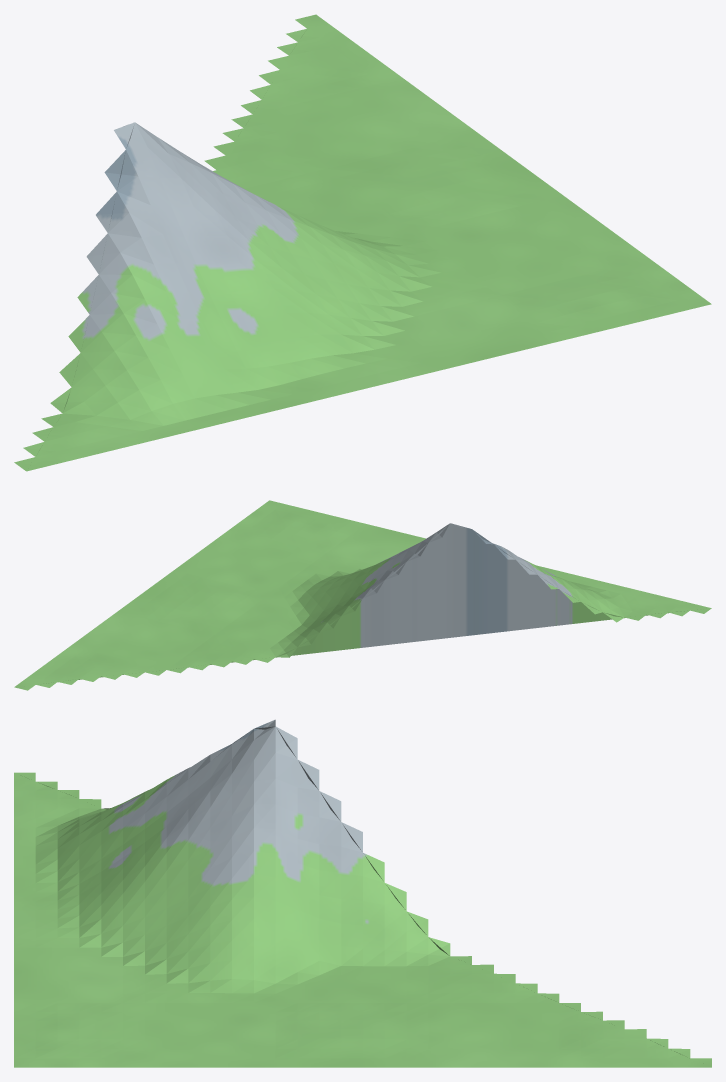
The model's file is Grass_RockyMountains_09_NE.obj.
3 renders of one model, top to bottom at view 1: azimuth 30°, elevation 25°; view 2: azimuth 150°, elevation 25°; view 3: azimuth 270°, elevation 25°, orthographic. The views are drawn at different scales.
Bounding box in the file's own units: 10 × 2.48 × 10.
1 material, 1 textured.
